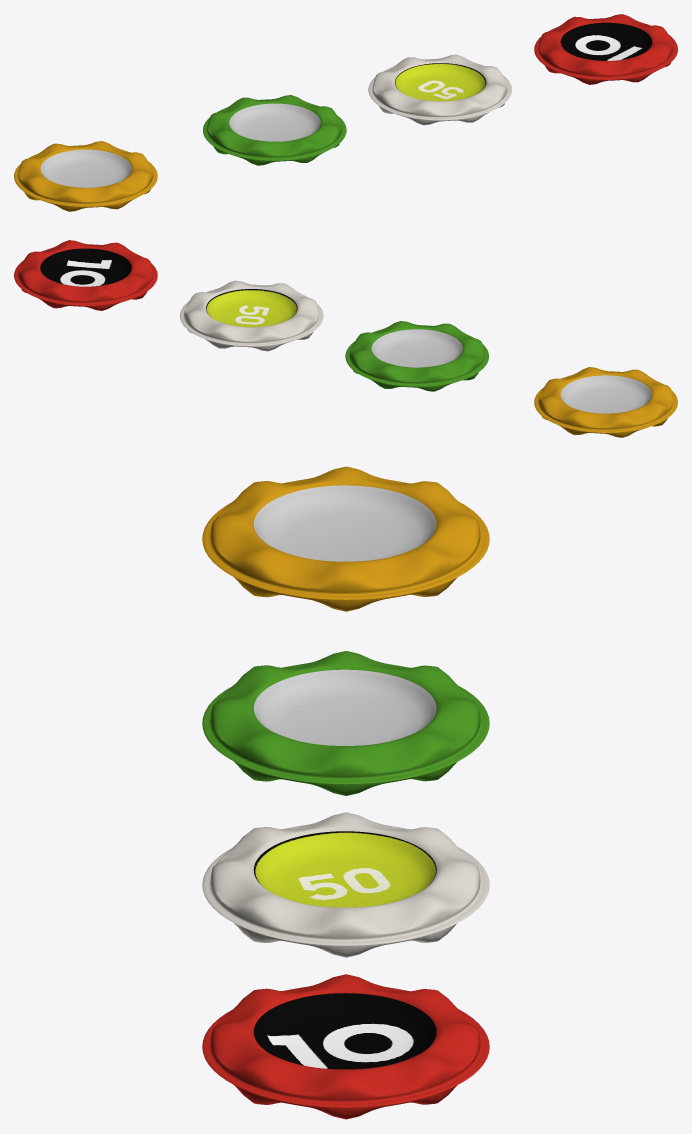
File: coinsbabylon.fbx
3 views of the same model, one above another, from view 1: azimuth 30°, elevation 25°; view 2: azimuth 150°, elevation 25°; view 3: azimuth 270°, elevation 25° (orthographic). The views are drawn at different scales.
Visible parts, largest first — view 1: coin10, coin1, coin100, coin50; view 2: coin1, coin100, coin10, coin50; view 3: coin1, coin100, coin10, coin50.
Part boxes in pixels (<box>): coin10: <box>534,14,677,84</box>; coin1: <box>203,95,346,165</box>; coin100: <box>14,141,157,211</box>; coin50: <box>368,54,511,125</box>; coin1: <box>345,321,488,391</box>; coin100: <box>534,367,677,437</box>; coin10: <box>14,240,157,310</box>; coin50: <box>180,280,323,351</box>; coin1: <box>202,651,489,795</box>; coin100: <box>202,466,489,611</box>; coin10: <box>202,974,489,1119</box>; coin50: <box>202,812,489,957</box>.
Size of the model in its own units: 231 by 7.54 by 44.56.
